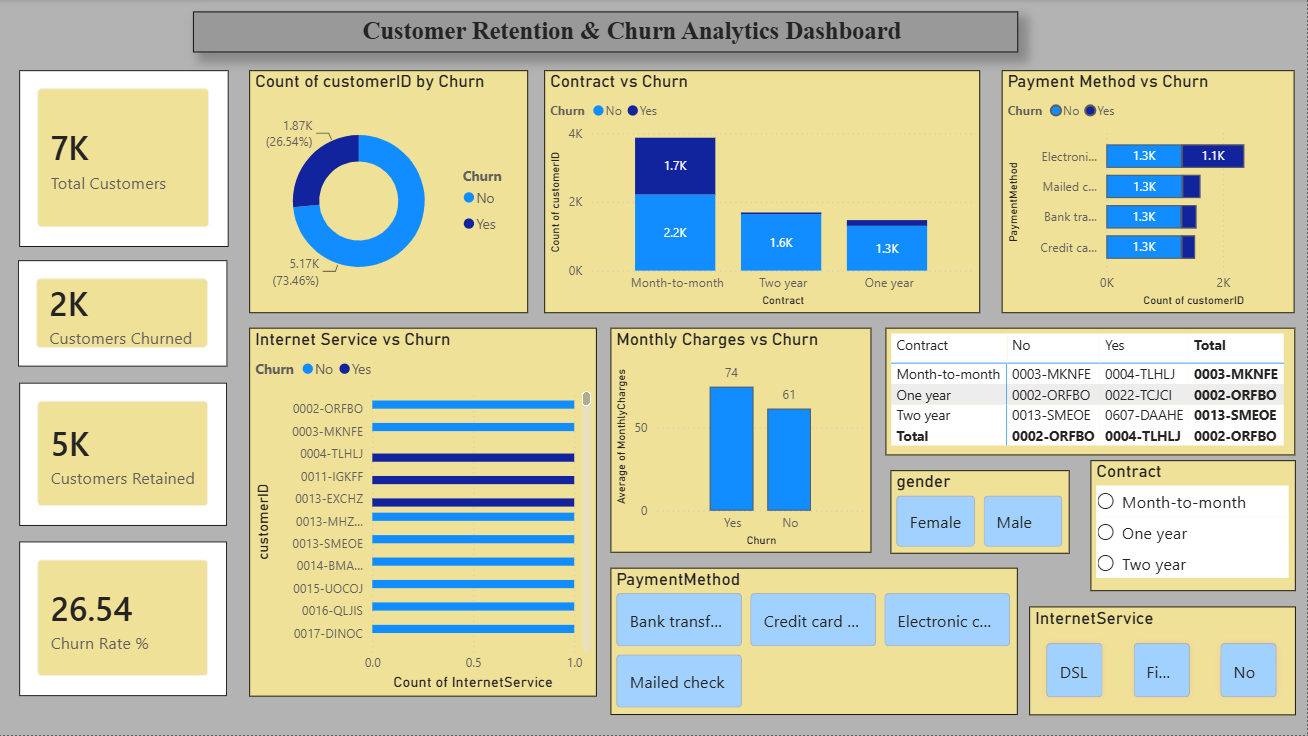

The page's visual inventory and layout, read from the dashboard file:
{"tool":"powerbi","page":{"name":"Page 1","canvas":[1280,720],"ordinal":0},"visuals":[{"type":"cardVisual","fields":{"Data":["Telco-Customer-Churn.Total Customers"]},"box":[20.6,70,204.5,172.9],"z":0},{"type":"cardVisual","fields":{"Data":["Telco-Customer-Churn.Customers Churned"]},"box":[19.2,255.2,204.5,104.3],"z":1000},{"type":"cardVisual","fields":{"Data":["Telco-Customer-Churn.Customers Retained"]},"box":[20.6,376,203.1,140],"z":2000},{"type":"cardVisual","fields":{"Data":["Telco-Customer-Churn.Churn Rate %"]},"box":[20.6,531,203.1,150.9],"z":3000},{"type":"donutChart","fields":{"Category":["Telco-Customer-Churn.Churn"],"Y":["CountNonNull(Telco-Customer-Churn.customerID)"]},"box":[245.6,70,273.1,237.4],"z":4000},{"type":"columnChart","title":"Contract vs Churn","fields":{"Category":["Telco-Customer-Churn.Contract"],"Series":["Telco-Customer-Churn.Churn"],"Y":["CountNonNull(Telco-Customer-Churn.customerID)"]},"box":[534.4,69.7,426.8,237.2],"z":5000},{"type":"barChart","title":"Payment Method vs Churn","fields":{"Category":["Telco-Customer-Churn.PaymentMethod"],"Y":["CountNonNull(Telco-Customer-Churn.customerID)"],"Series":["Telco-Customer-Churn.Churn"]},"box":[982.5,70,286.8,237.4],"z":6000},{"type":"clusteredBarChart","title":"Internet Service vs Churn","fields":{"Y":["CountNonNull(Telco-Customer-Churn.InternetService)"],"Category":["Telco-Customer-Churn.customerID"],"Series":["Telco-Customer-Churn.Churn"]},"box":[245.6,321.1,340.3,360.9],"z":7000},{"type":"clusteredColumnChart","title":"Monthly Charges vs Churn","fields":{"Y":["Avg(Telco-Customer-Churn.MonthlyCharges)"],"Category":["Telco-Customer-Churn.Churn"]},"box":[599.2,321.6,255.6,220.1],"z":8000},{"type":"pivotTable","fields":{"Rows":["Telco-Customer-Churn.Contract"],"Columns":["Telco-Customer-Churn.Churn"],"Values":["Min(Telco-Customer-Churn.customerID)"]},"box":[868.2,321.6,401.1,124.7],"z":9000},{"type":"advancedSlicerVisual","fields":{"Values":["Telco-Customer-Churn.gender"]},"box":[873.1,461,174.9,81.9],"z":10000},{"type":"listSlicer","fields":{"Values":["Telco-Customer-Churn.Contract"]},"box":[1068.8,451.2,200.5,128.4],"z":11000},{"type":"advancedSlicerVisual","fields":{"Values":["Telco-Customer-Churn.PaymentMethod"]},"box":[599.2,556.4,398.6,144.3],"z":12000},{"type":"advancedSlicerVisual","fields":{"Values":["Telco-Customer-Churn.InternetService"]},"box":[1008.8,594.3,260.5,106.4],"z":13000},{"type":"textbox","box":[190.8,12.2,807.1,40.4],"z":14000}]}

Visuals, with their boxes in screenshot pixels (x1, y1, x2, y2), scaled from the page's 1280x720 canvas onto the 1308x736 screenshot:
cardVisual - Telco-Customer-Churn.Total Customers: 21/72/230/248
cardVisual - Telco-Customer-Churn.Customers Churned: 20/261/229/367
cardVisual - Telco-Customer-Churn.Customers Retained: 21/384/229/527
cardVisual - Telco-Customer-Churn.Churn Rate %: 21/543/229/697
donutChart - Telco-Customer-Churn.Churn x CountNonNull(Telco-Customer-Churn.customerID): 251/72/530/314
"Contract vs Churn" columnChart: 546/71/982/314
"Payment Method vs Churn" barChart: 1004/72/1297/314
"Internet Service vs Churn" clusteredBarChart: 251/328/599/697
"Monthly Charges vs Churn" clusteredColumnChart: 612/329/873/554
pivotTable - Telco-Customer-Churn.Contract x Telco-Customer-Churn.Churn: 887/329/1297/456
advancedSlicerVisual - Telco-Customer-Churn.gender: 892/471/1071/555
listSlicer - Telco-Customer-Churn.Contract: 1092/461/1297/592
advancedSlicerVisual - Telco-Customer-Churn.PaymentMethod: 612/569/1020/716
advancedSlicerVisual - Telco-Customer-Churn.InternetService: 1031/608/1297/716
textbox: 195/12/1020/54
